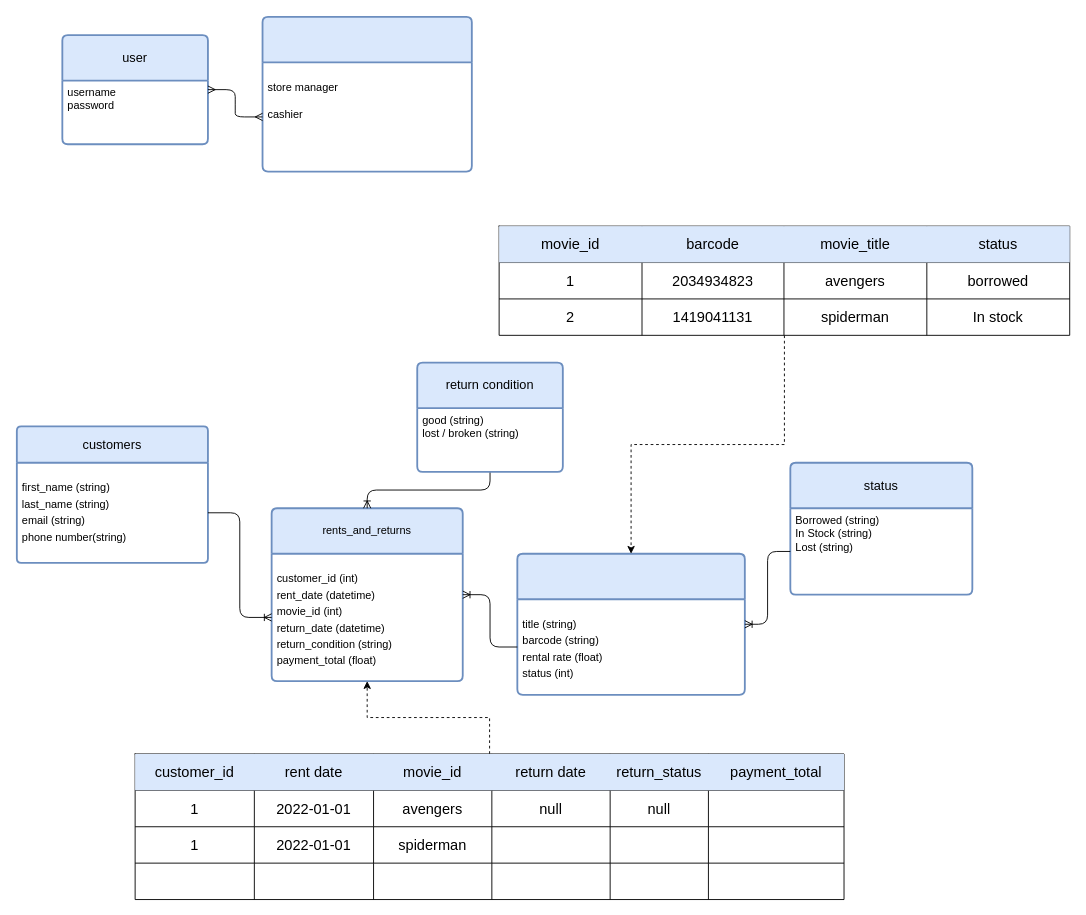
This 1086x915 diagram has some shape labels left out. The shapes that lost their labels are listed below. From the top down, each one's box as (x1, y1, x2, y2) in pixels, then its label:
(261, 15, 472, 172): role
(516, 552, 745, 695): movies
